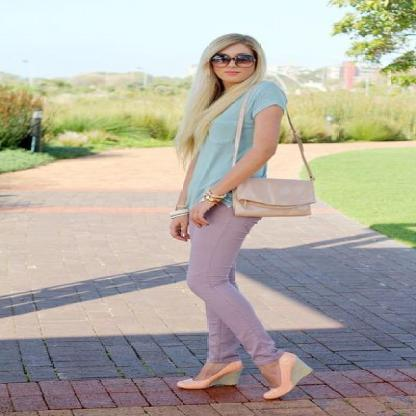bag: (225, 165, 315, 217)
pants: (179, 191, 283, 374)
shirt: (177, 65, 286, 207)
shoe: (187, 351, 311, 398)
sunglass: (208, 47, 257, 74)
